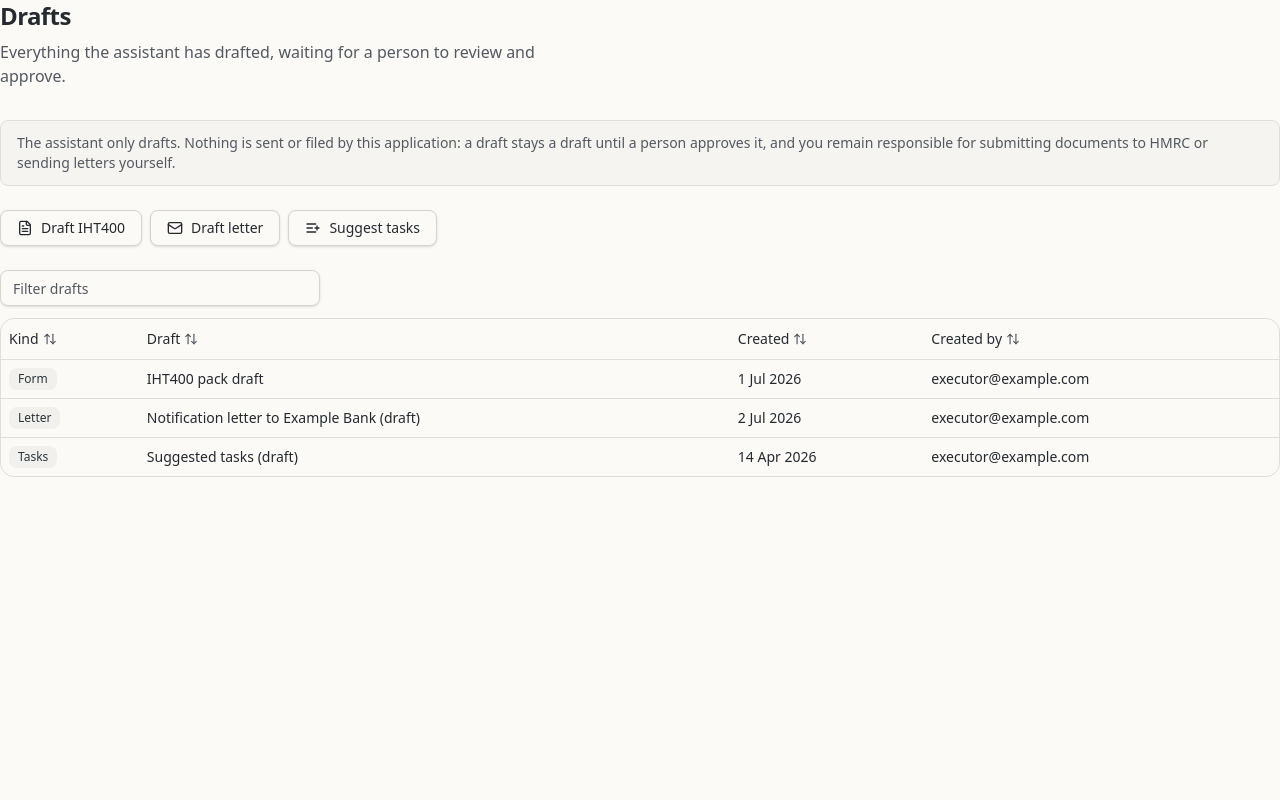
DraftsPage › renders the calm line when the letter agent returns 503
This screenshot has width=1280, height=800.
Click the button "Draft letter".
click(215, 228)  # box [150, 210, 280, 246]
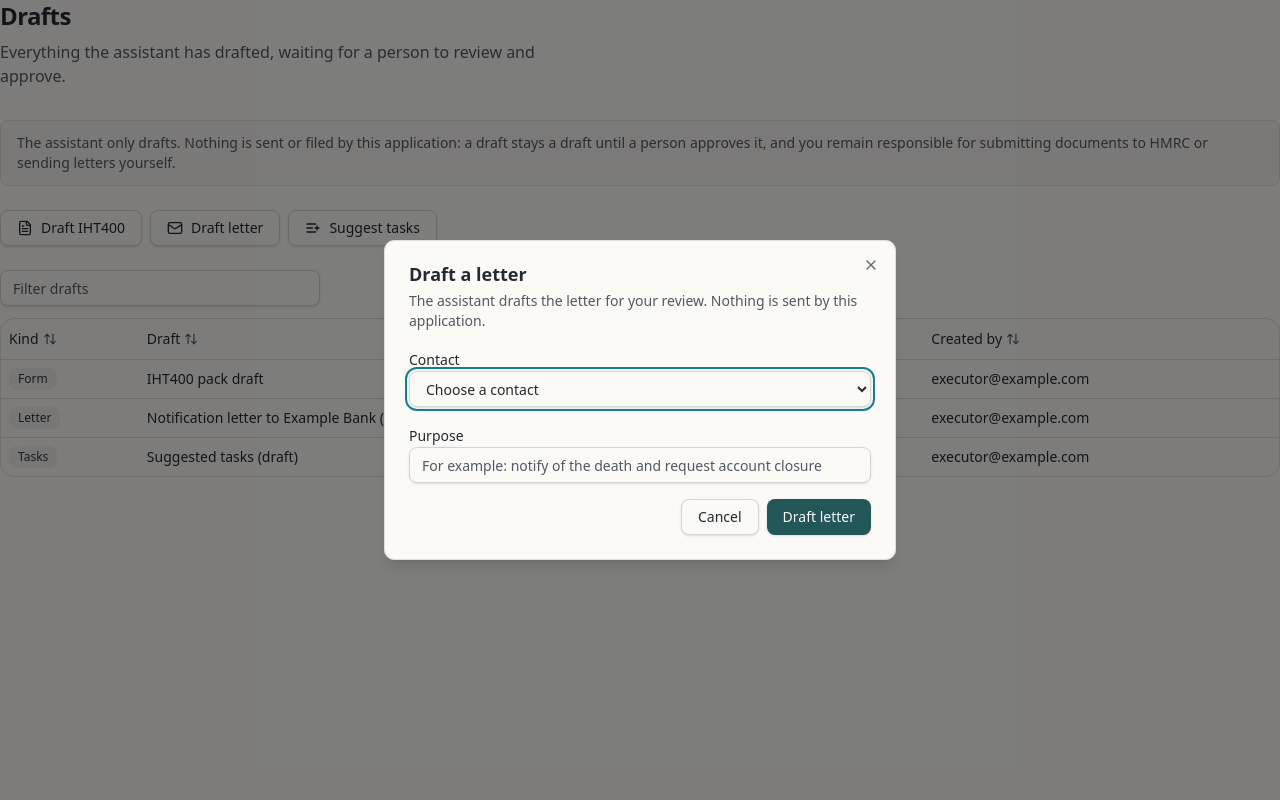
Select "Example Bank" in the dropdown labelled "Contact" at (640,389), box [409, 371, 871, 407]
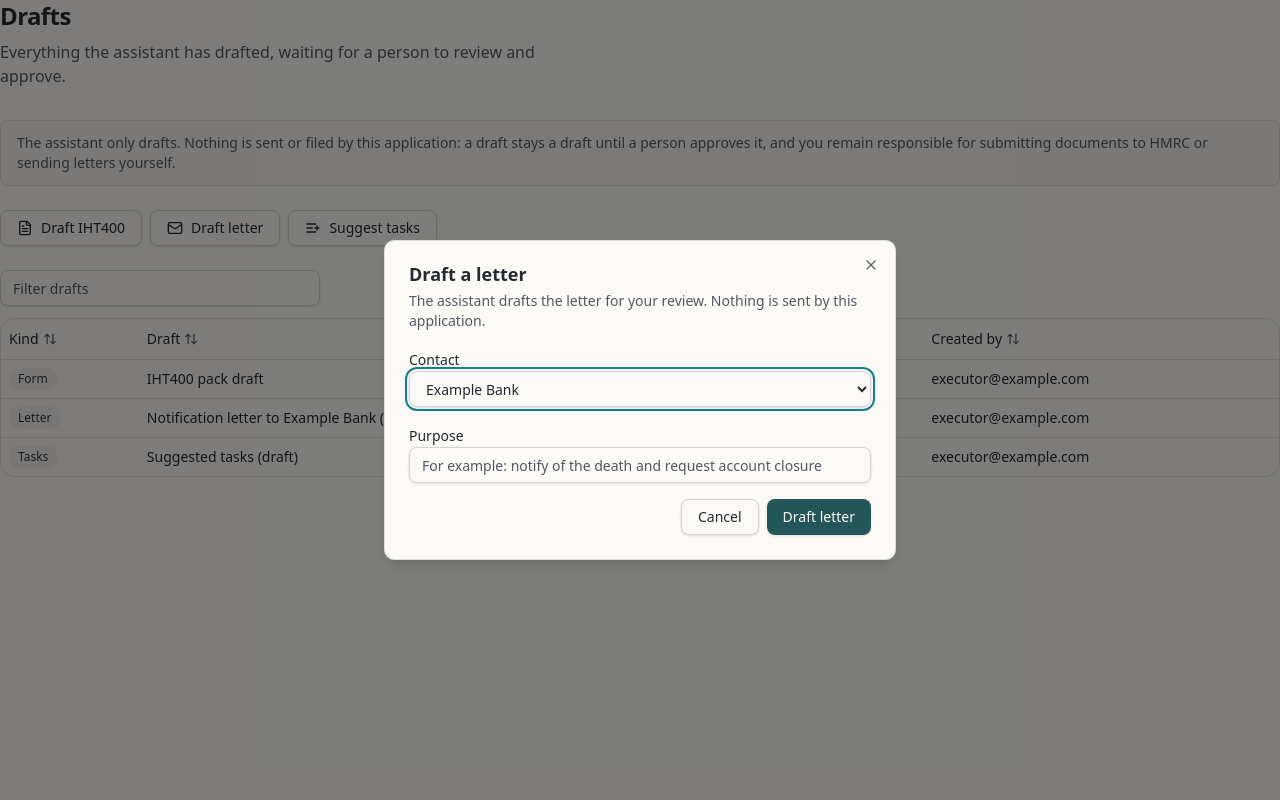
Type "notify of the death" into the field labelled "Purpose".
click(640, 465); type("notify of the death")  # box [409, 447, 871, 483]
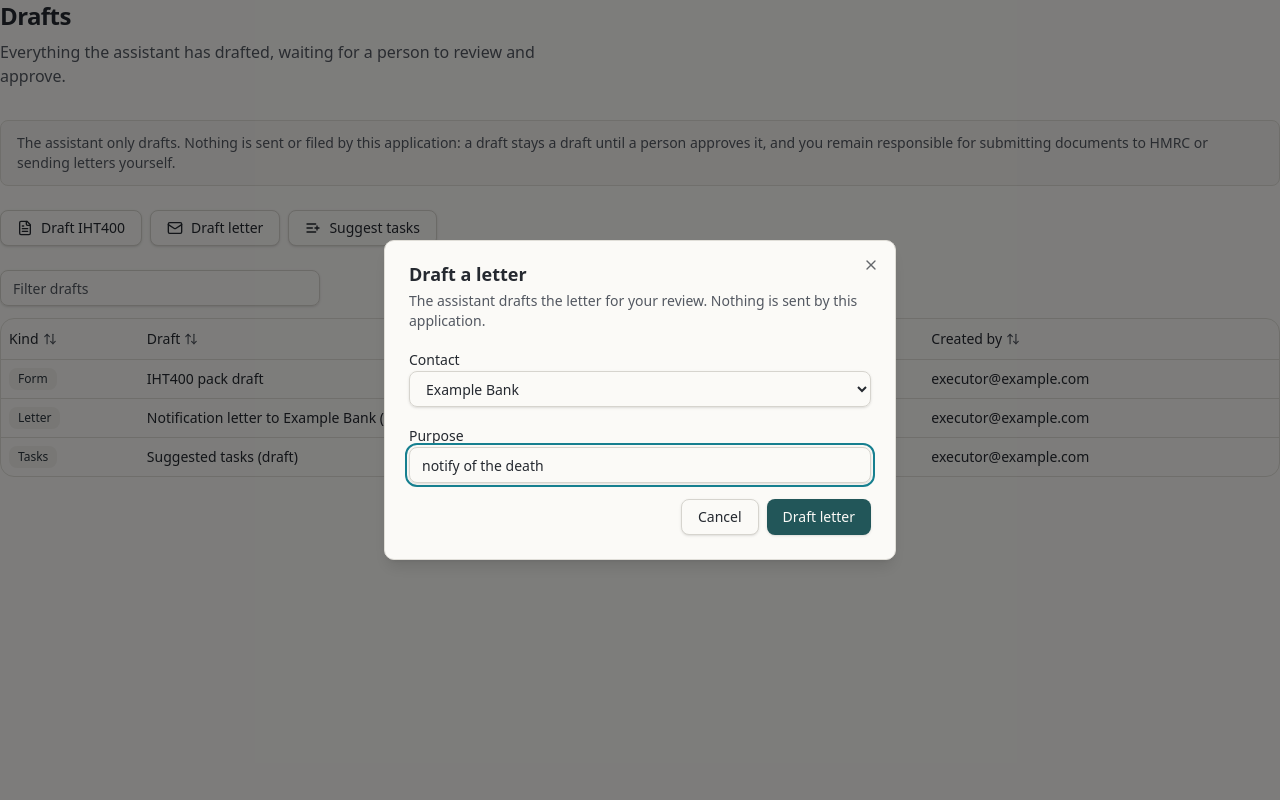
Click the button "Draft letter".
click(819, 517)  # box [767, 499, 871, 535]
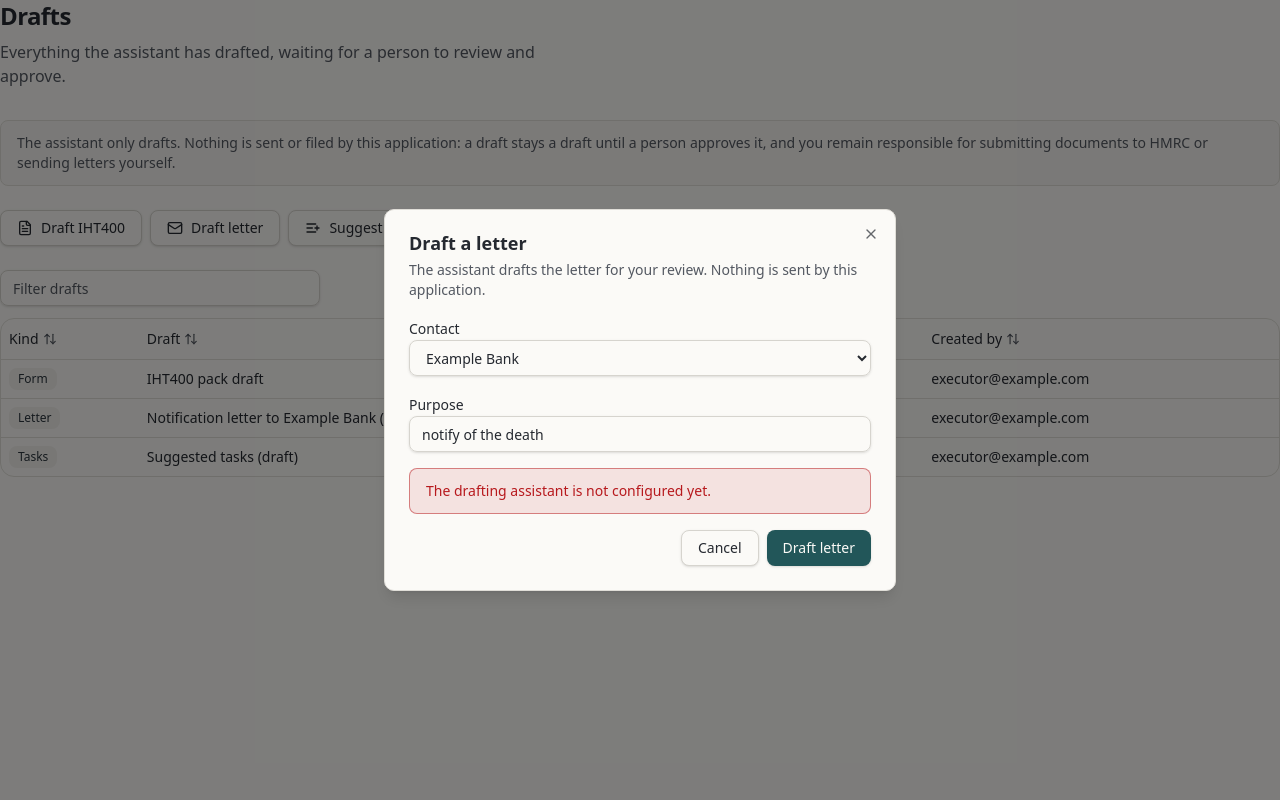
Check: the text "The drafting assistant is not configured yet." is shown, box [409, 468, 871, 514]
